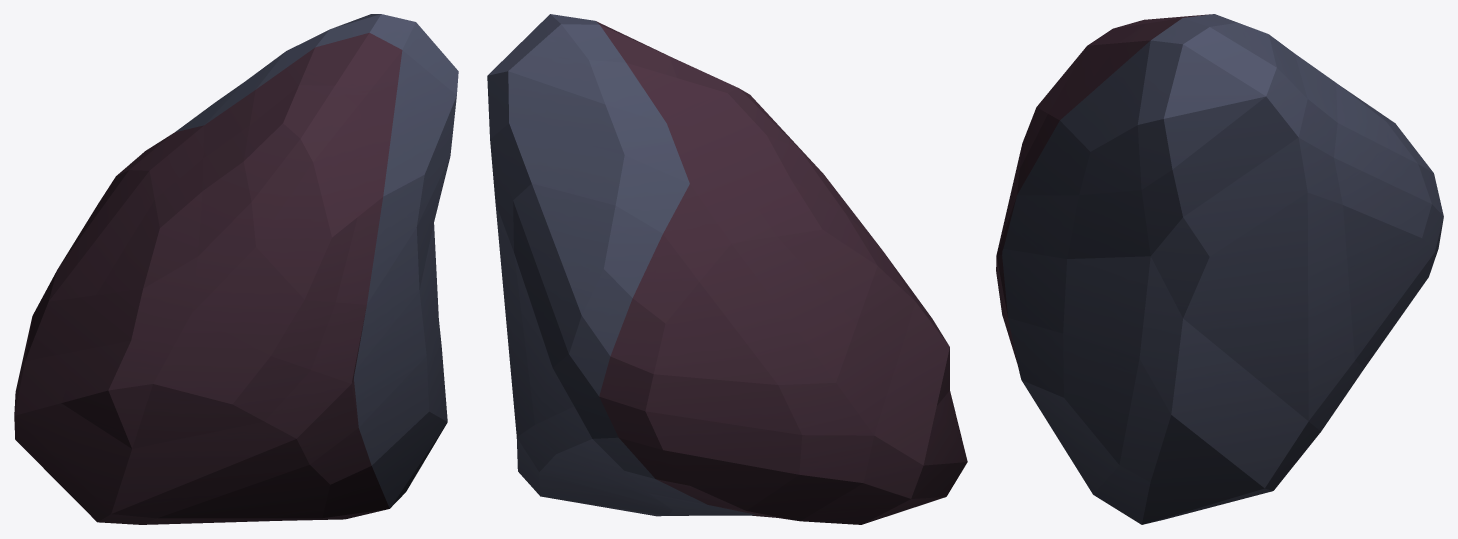
The model's file is Asteroid.fbx.
The picture shows the model from 3 angles, left to right: view 1: azimuth 30°, elevation 25°; view 2: azimuth 150°, elevation 25°; view 3: azimuth 270°, elevation 25°; orthographic projection. The views are drawn at different scales.
Visible parts, largest first — view 1: Left_Half, Right_Half; view 2: Left_Half, Right_Half; view 3: Right_Half, Left_Half.
Boxes of the visible parts, left/top/right/bottom form: Left_Half: left=14, top=32, right=402, bottom=524; Right_Half: left=175, top=14, right=458, bottom=508; Left_Half: left=596, top=21, right=967, bottom=524; Right_Half: left=487, top=14, right=755, bottom=516; Right_Half: left=1002, top=14, right=1443, bottom=524; Left_Half: left=996, top=14, right=1210, bottom=373.
Bounding box in the file's own units: 285 × 306 × 243.
1 material, 1 textured.
